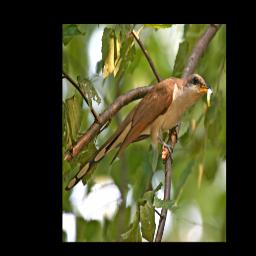Cuckoo: (64, 72, 216, 193)
